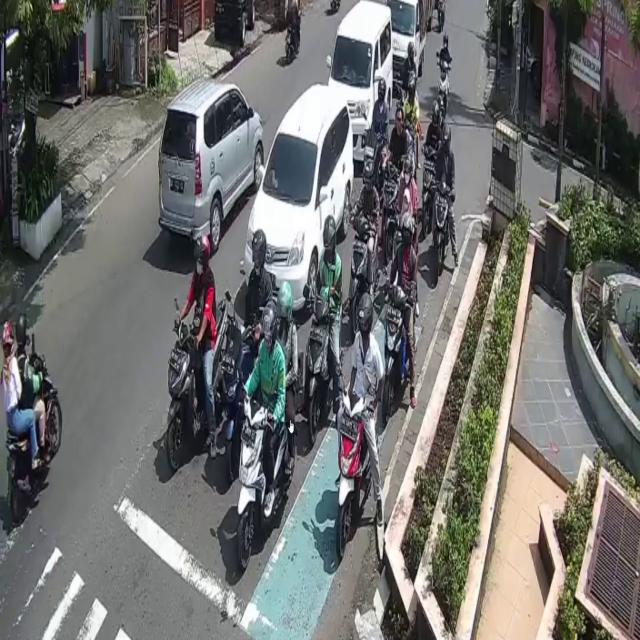bus: (163, 297, 234, 474), (11, 352, 63, 528), (237, 396, 290, 568), (337, 387, 372, 555), (305, 298, 333, 447), (383, 290, 412, 429), (352, 213, 377, 304), (434, 184, 453, 276)
motorcycle: (243, 81, 354, 319), (157, 76, 264, 247), (329, 0, 394, 162), (388, 0, 427, 83)
